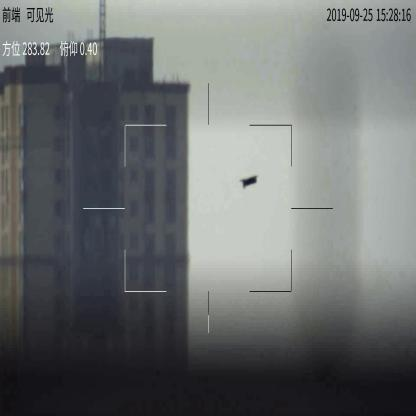uav: (240, 177, 256, 189)
